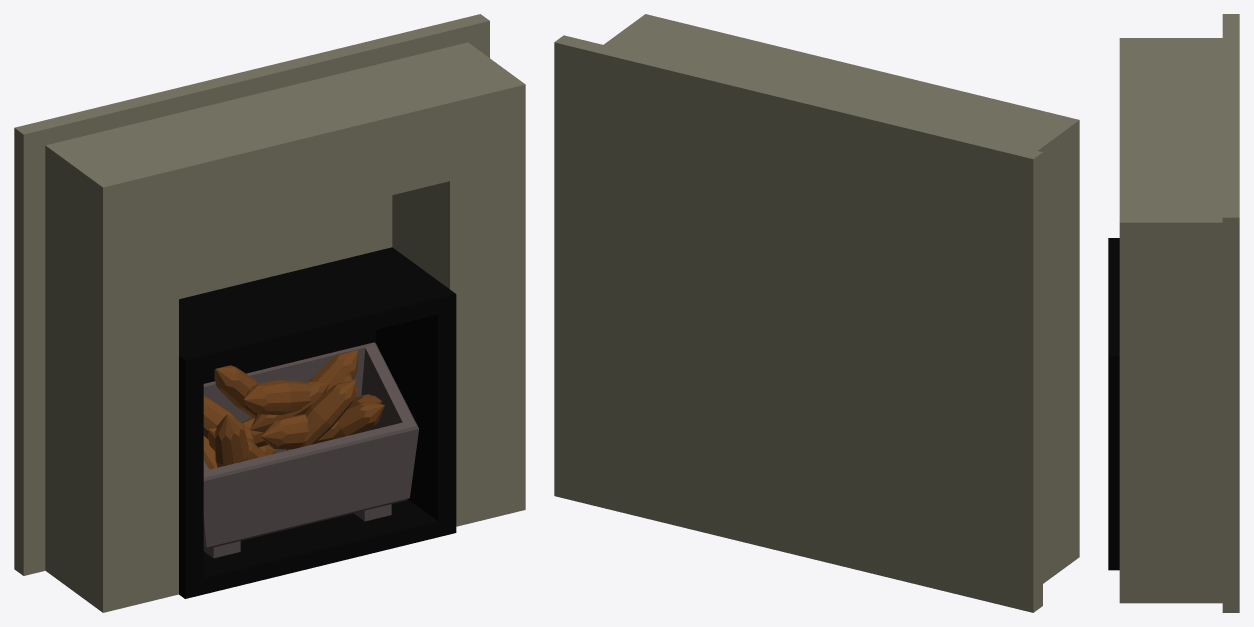
Rendered from fireplace.fbx.
3 renders of one model, left to right at view 1: azimuth 30°, elevation 25°; view 2: azimuth 150°, elevation 25°; view 3: azimuth 270°, elevation 25°, orthographic. The views are drawn at different scales.
Parts seen in each view (by area): view 1: Frame, Wood Frame, Back, Wood Box, Woods.001, Woods, Cube.001; view 2: Back, Frame; view 3: Frame, Back, Wood Frame.
Part boxes in pixels (x1,y1,x2,y2): Frame: (45, 42, 525, 612); Wood Frame: (179, 247, 456, 598); Back: (14, 14, 489, 575); Wood Box: (203, 342, 418, 548); Woods.001: (203, 349, 382, 467); Woods: (203, 374, 384, 469); Cube.001: (203, 504, 391, 558); Back: (554, 35, 1042, 612); Frame: (603, 14, 1079, 583); Frame: (1119, 38, 1222, 603); Back: (1222, 14, 1239, 612); Wood Frame: (1108, 238, 1119, 570).
Size of the model in its own units: 219 by 198 by 59.65.
